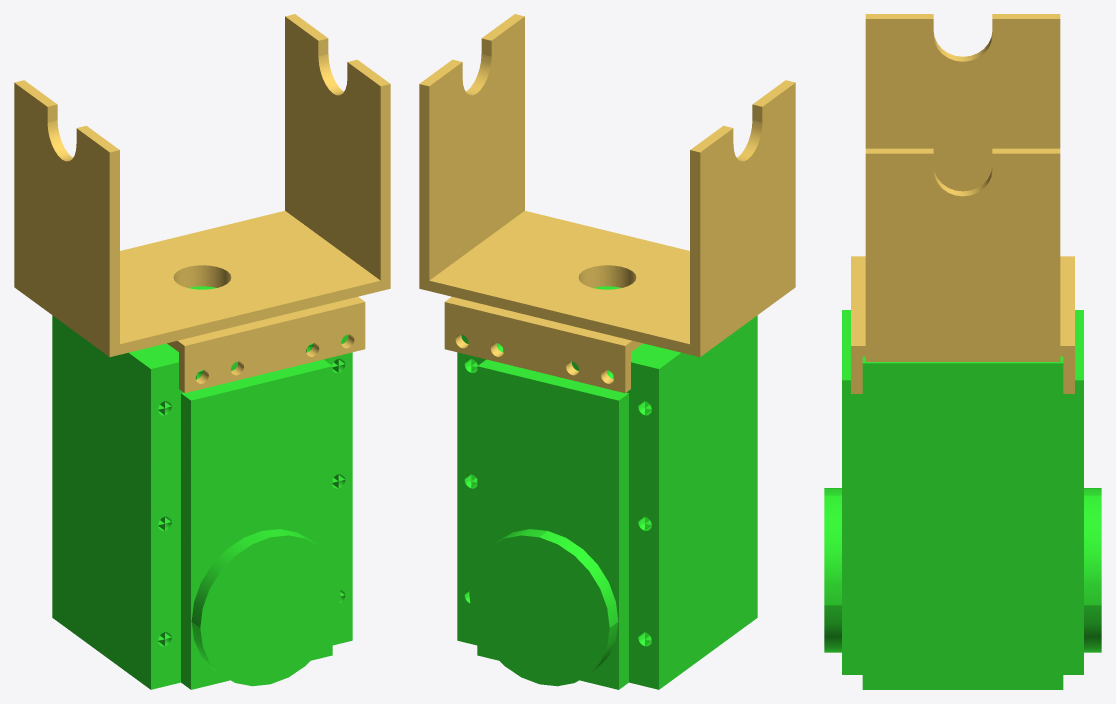
3 views of the same model, side by side, from view 1: azimuth 30°, elevation 25°; view 2: azimuth 150°, elevation 25°; view 3: azimuth 270°, elevation 25° (orthographic).
Parts seen in each view (by area): view 1: FR08-H101 (×2), group_3, group_2, group_1, FR05-S101; view 2: FR08-H101 (×2), group_3, group_2, group_1, FR05-S101; view 3: group_3, FR08-H101, group_2, group_1, FR05-S101.
Part boxes in pixels (x1,y1,x2,y2): FR08-H101 (×2): (14,14,390,356); group_3: (52,286,352,689); group_2: (181,359,332,689); group_1: (191,529,340,686); FR05-S101: (167,297,365,392); FR08-H101 (×2): (419,14,795,356); group_3: (457,286,757,689); group_2: (477,359,628,689); group_1: (469,529,618,686); FR05-S101: (444,297,642,392); group_3: (862,356,1063,689); FR08-H101: (865,14,1060,361); group_2: (842,310,1083,674); group_1: (824,488,1101,652); FR05-S101: (851,256,1074,393).
Size of the model in its own units: 2.2 by 1.85 by 4.13.
